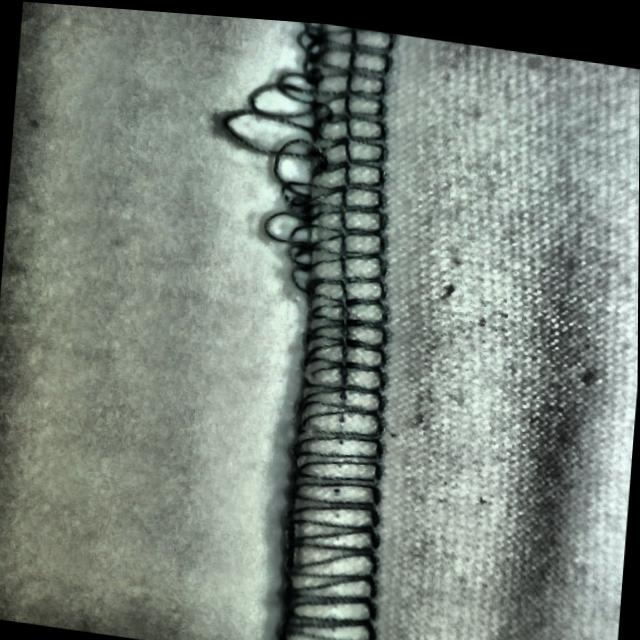Stitch: (207, 12, 409, 295)
